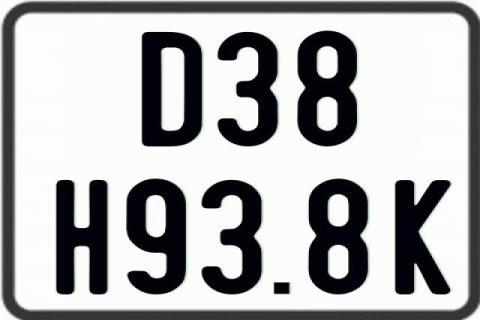0: (306, 178, 370, 298), (201, 180, 266, 298), (126, 176, 190, 295), (216, 30, 277, 148), (296, 30, 358, 146)
D: (142, 32, 204, 146)
H: (56, 178, 108, 292)
K: (394, 180, 451, 298)
